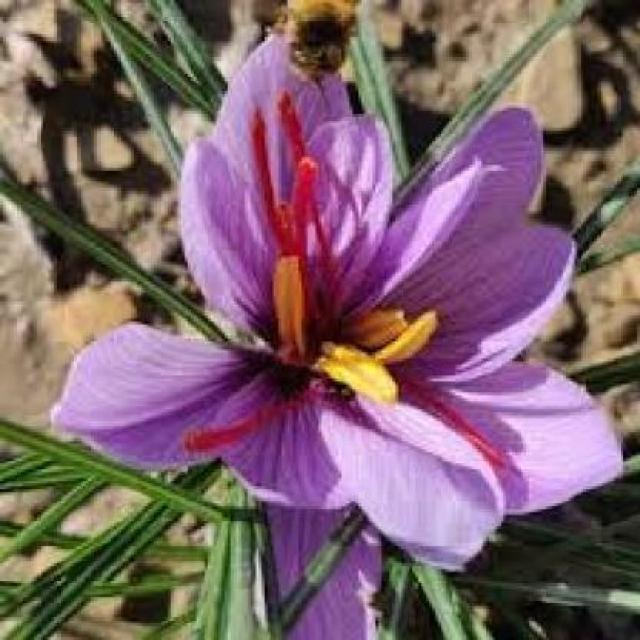Flower: (56, 33, 629, 565)
stigma: (181, 372, 323, 459), (282, 88, 352, 242), (407, 374, 505, 466), (248, 105, 290, 249)
